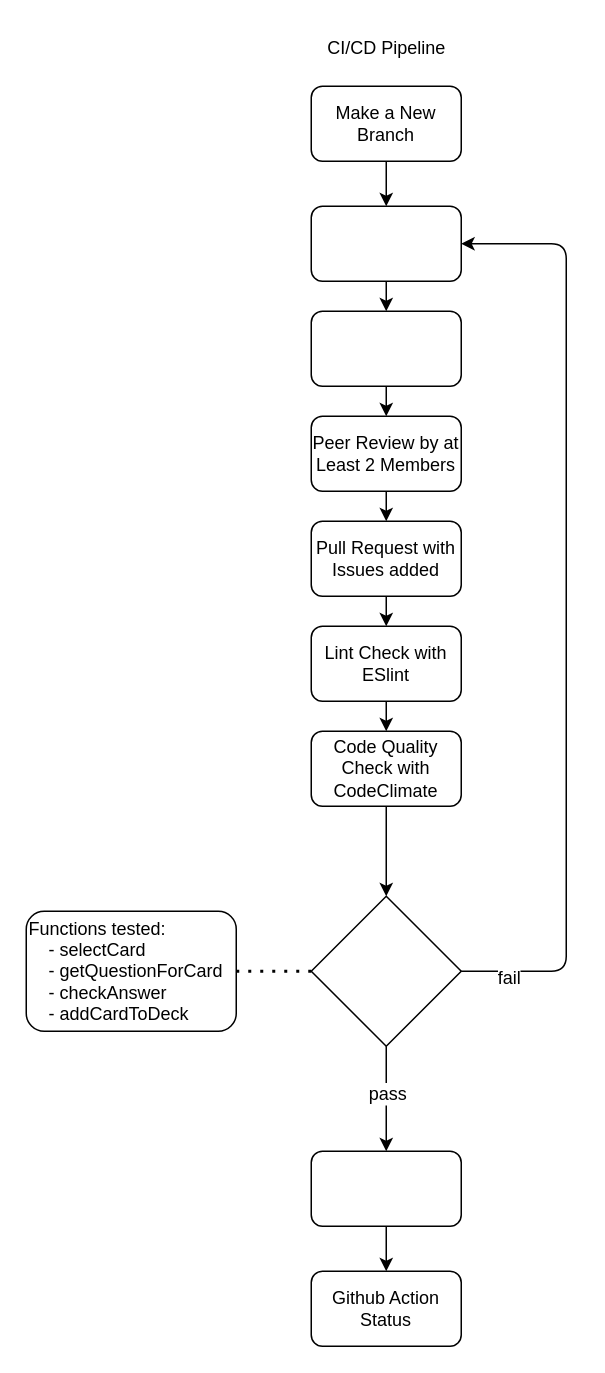
Some shapes in this 605 by 1373 pixel diagram are drawn without their labels. The centre of each missing label's shape, as x and y in pixels:
"Code" goes at [385,243].
"Commit with message" goes at [385,348].
"Generate docs with JSDoc" goes at [385,1188].
"Unit Tests with Jest" goes at [385,970].
